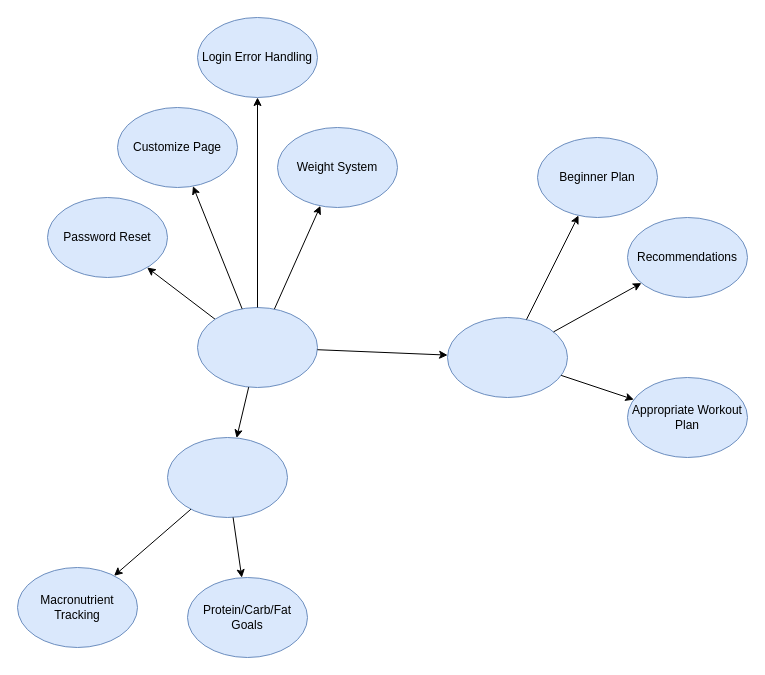
This 765x675 diagram has some shape labels left out. The box of each missing label's shape, as (x1, y1, x2, y2) in pixels:
Account Creation: (196, 306, 318, 388)
Calorie Tracking: (166, 436, 288, 518)
Workout Routines: (446, 316, 568, 398)
